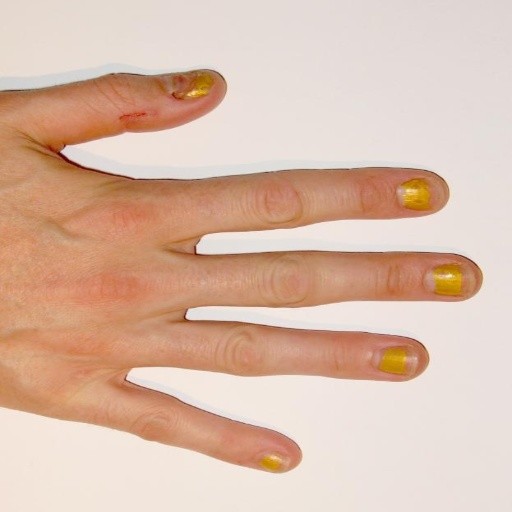hand: (0, 65, 481, 473)
